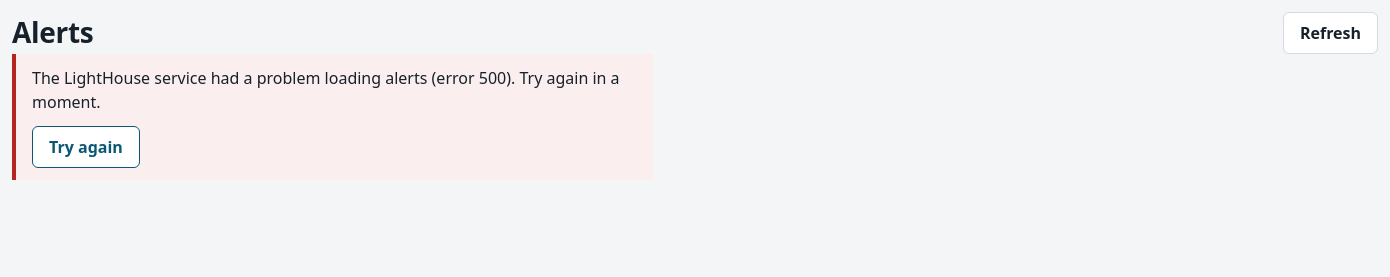
Test: AlertsQueue › shows an error state with a retry for a server error
Check: the message shows "error 500", box [32,67,620,113]
Step 1. Click the button "Try again" → (86, 147), box [32,126,140,168]
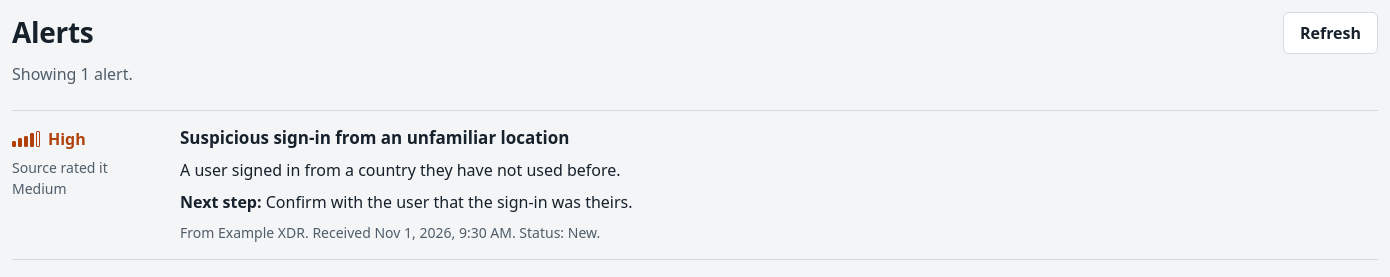
Check: the list is shown, box [12,110,1378,260]
